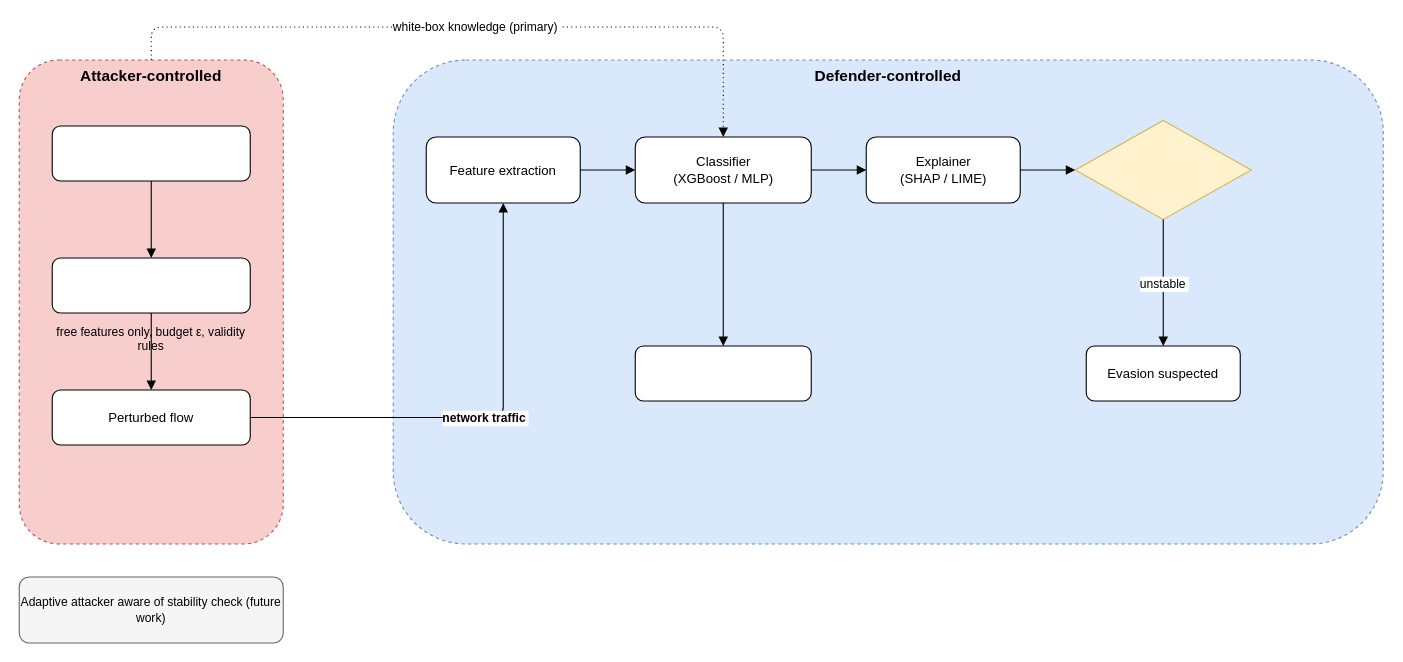
Image size: 1403x662. Some labels were removed from this diagram. Each missing label, with the centre of its shape:
Benign / Alert: point 722,373
Constrained perturbation: point 150,285
explanation stable?: point 1162,169
Malicious flow: point 150,153
